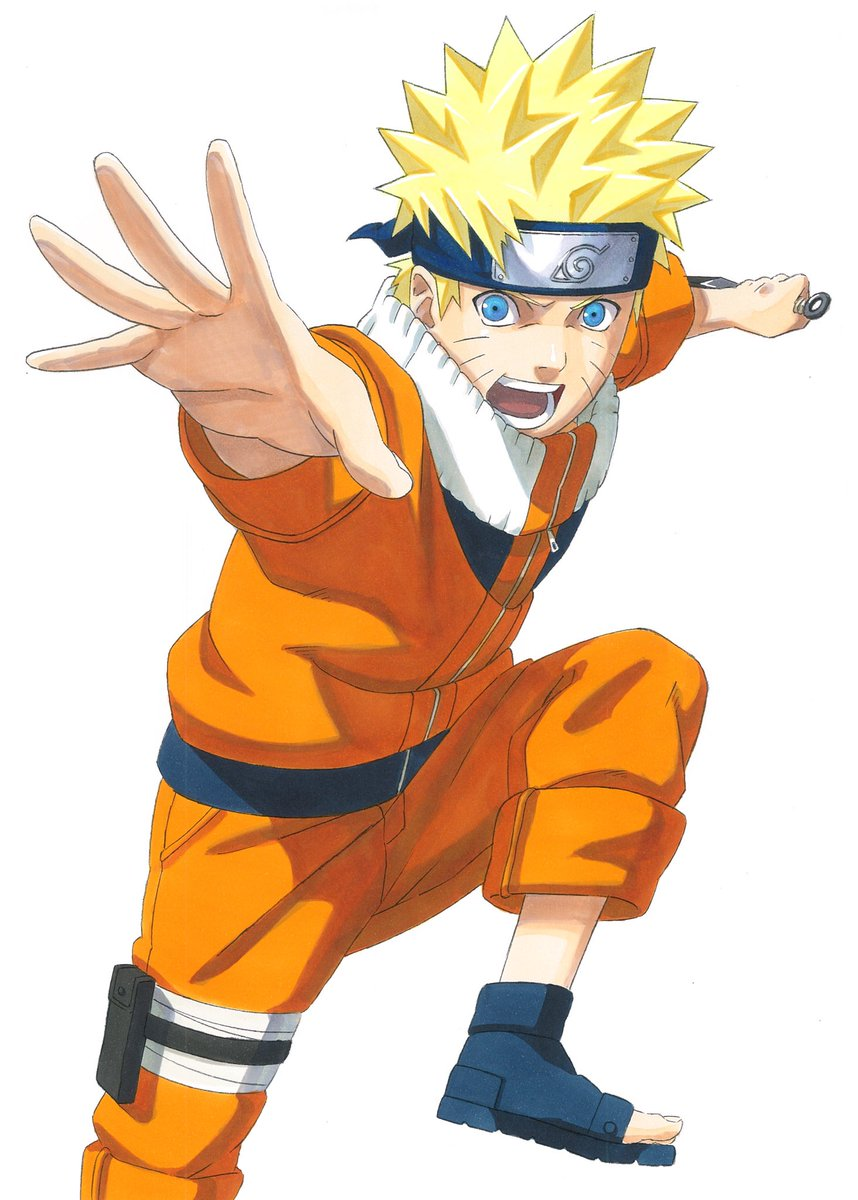naruto: (403, 190, 662, 445)
